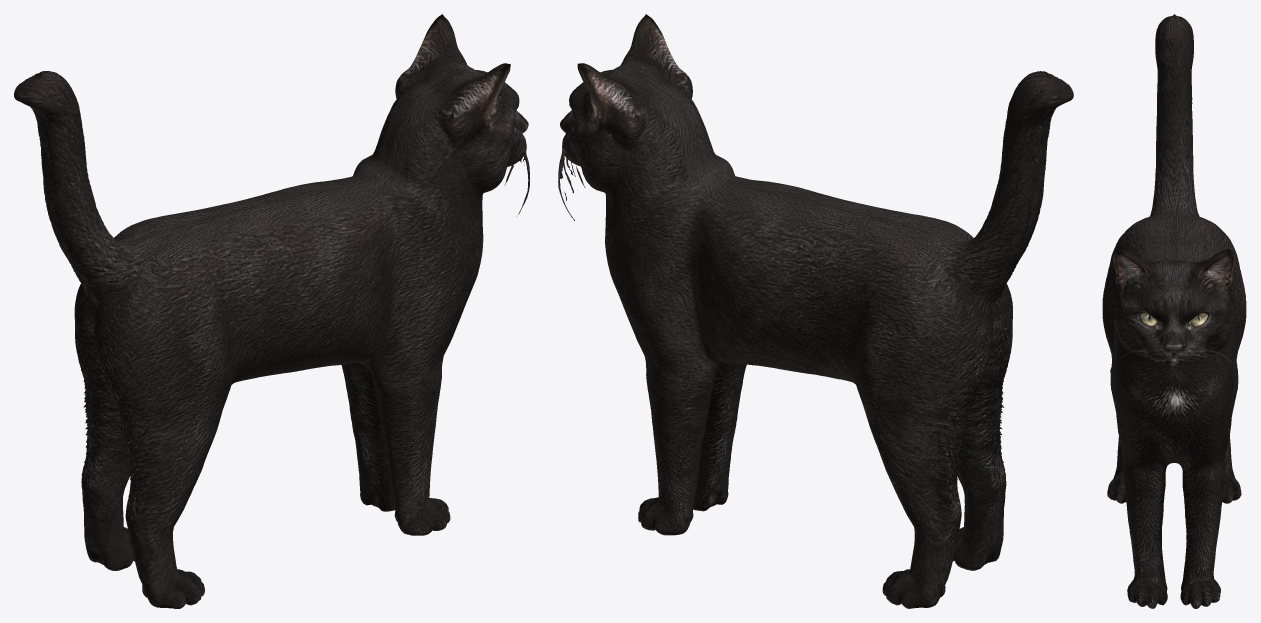
File: AURONGATO.glb
3 renders of one model, left to right at view 1: azimuth 30°, elevation 25°; view 2: azimuth 150°, elevation 25°; view 3: azimuth 270°, elevation 25°, orthographic. The views are drawn at different scales.
Visible parts, largest first — view 1: tripo_node_607ea430-ccaf-435a-a49e-53cd502c519f; view 2: tripo_node_607ea430-ccaf-435a-a49e-53cd502c519f; view 3: tripo_node_607ea430-ccaf-435a-a49e-53cd502c519f.
Part boxes in pixels (x1,y1,x2,y2): tripo_node_607ea430-ccaf-435a-a49e-53cd502c519f: (14,14,529,608); tripo_node_607ea430-ccaf-435a-a49e-53cd502c519f: (558,14,1073,608); tripo_node_607ea430-ccaf-435a-a49e-53cd502c519f: (1102,14,1246,608).
Size of the model in its own units: 0.9971 by 0.9997 by 0.2956.
1 material, 1 textured.
